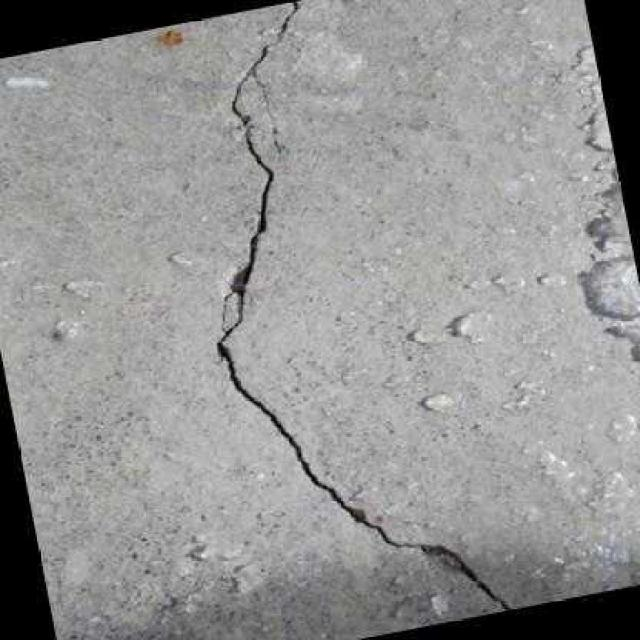D00: (211, 0, 517, 610)
